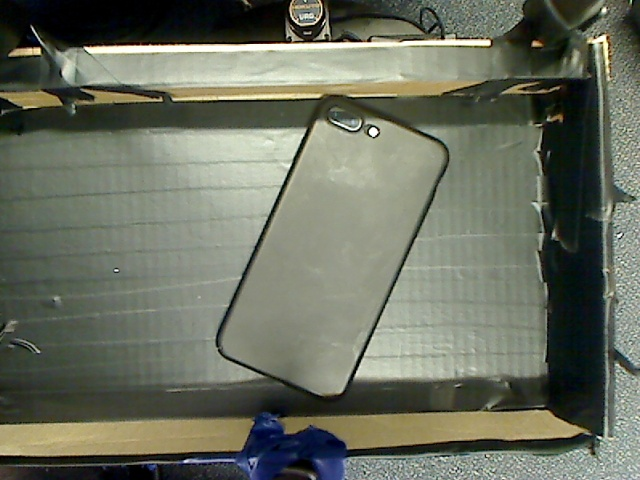phone: (205, 105, 479, 404)
